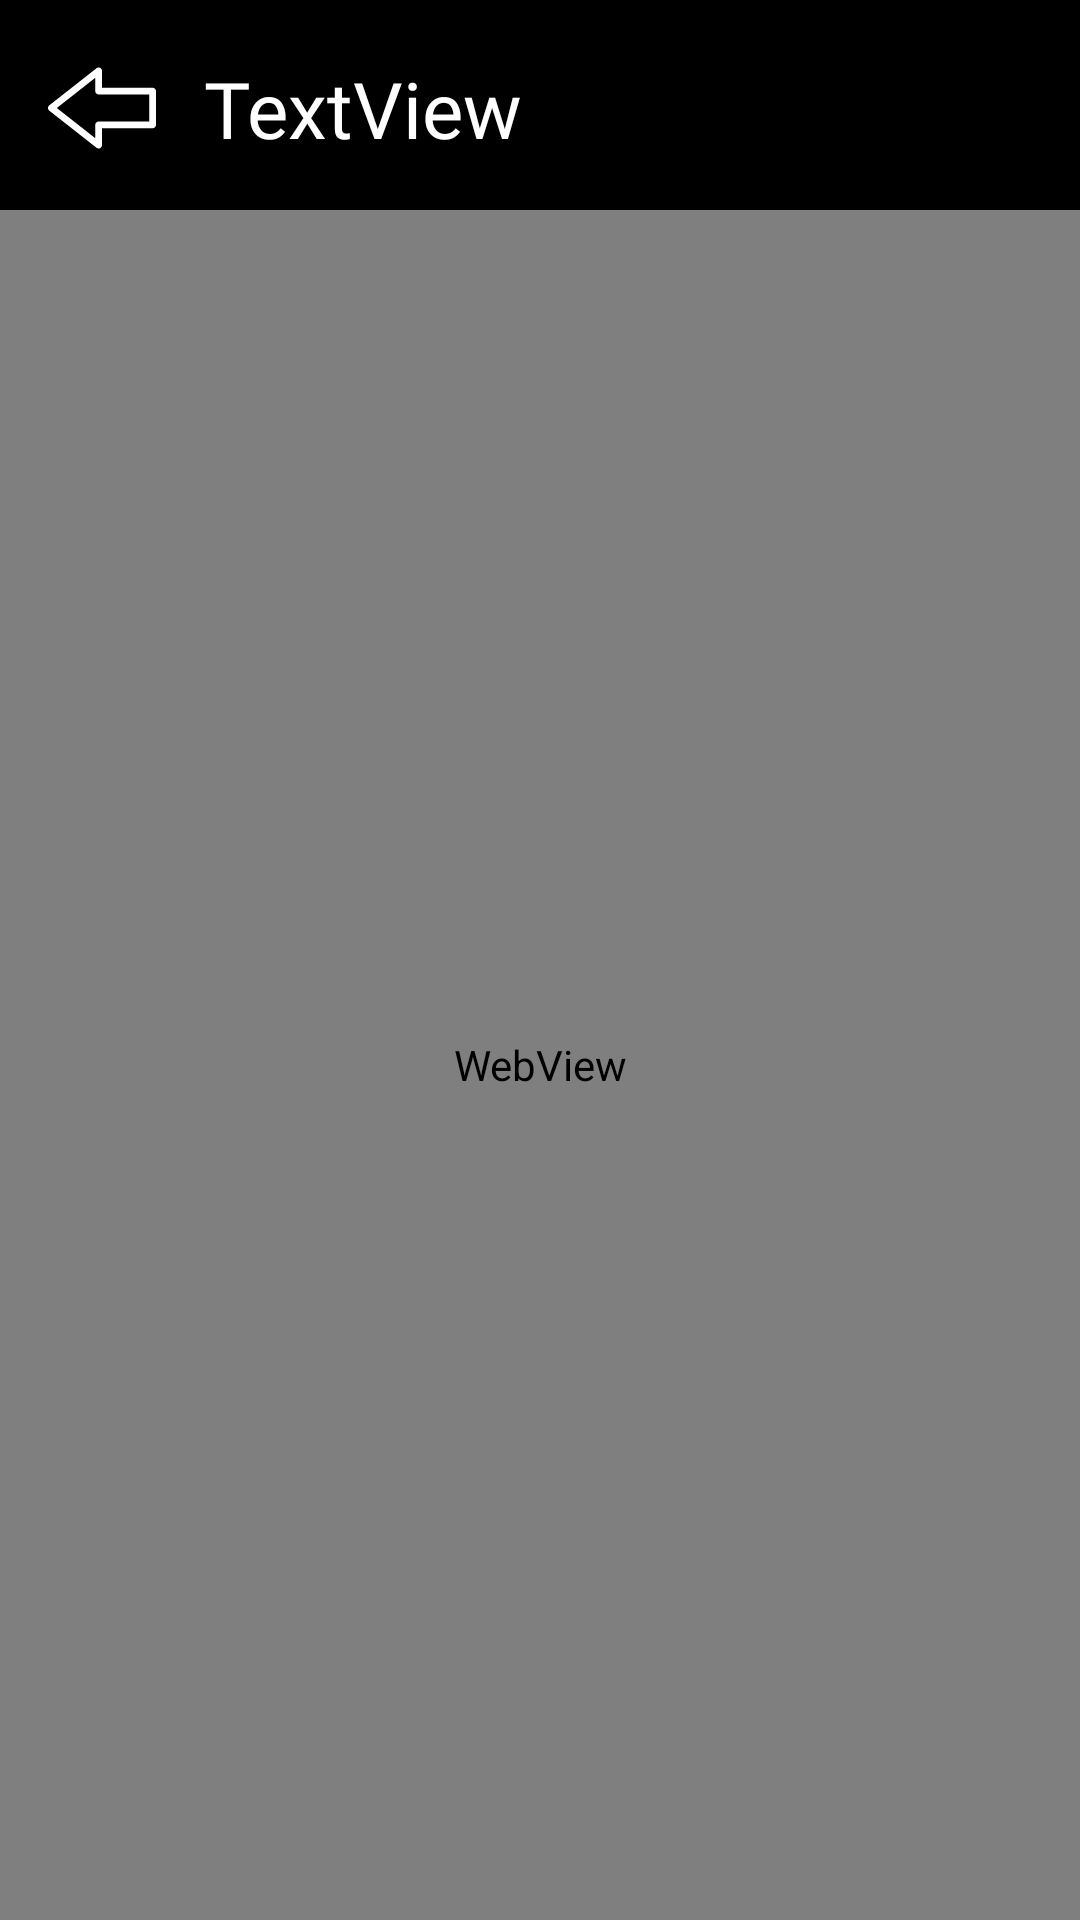

Where icons sit on this 1080px x 1920px app screen, as (x1, y1, x2, y2):
left arrow: (48, 67, 156, 149)
